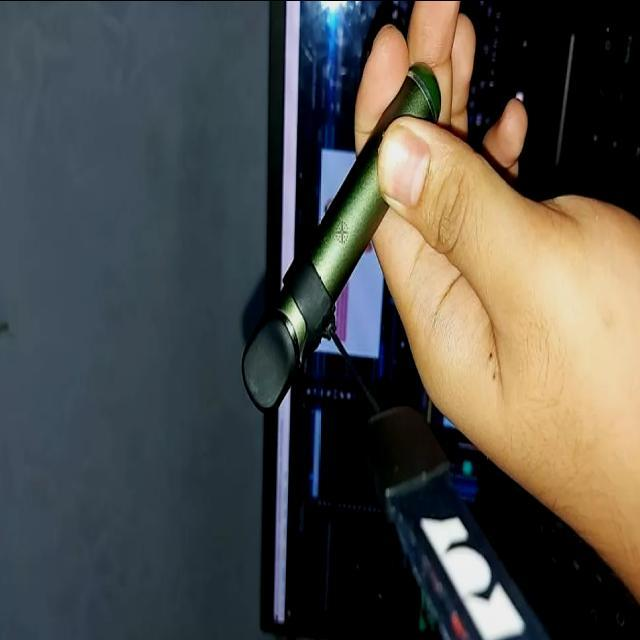Hazard: (240, 58, 442, 413)
